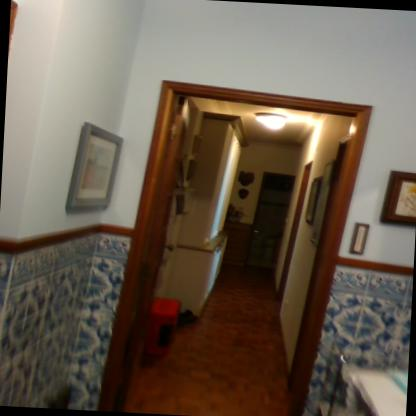open: (99, 73, 371, 415)
